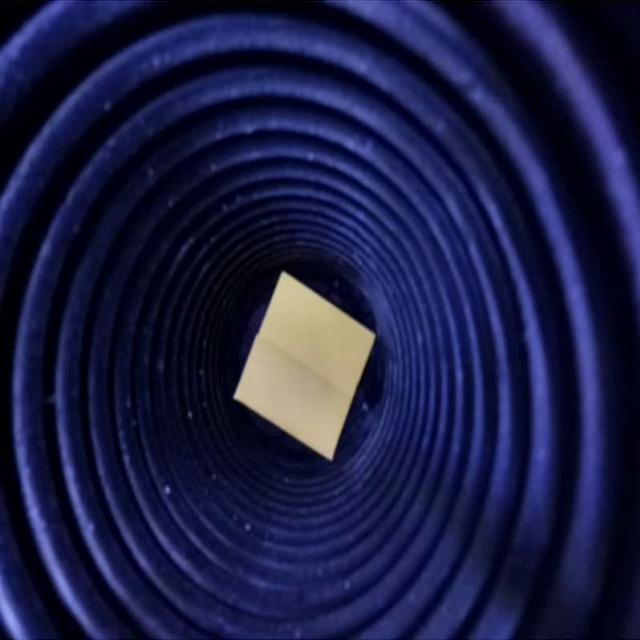obstacles: (229, 272, 378, 460)
